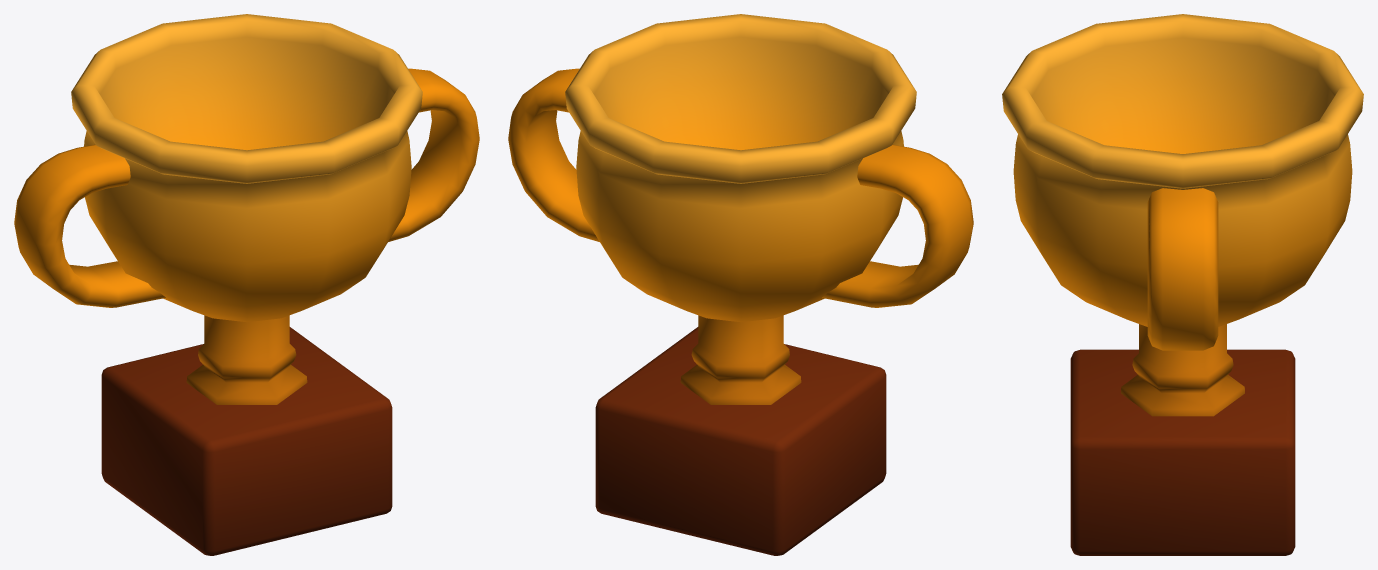
File: Collectible_Trophy_01.fbx
The picture shows the model from 3 angles, left to right: view 1: azimuth 30°, elevation 25°; view 2: azimuth 150°, elevation 25°; view 3: azimuth 270°, elevation 25°; orthographic projection. The views are drawn at different scales.
Parts seen in each view (by area): view 1: Collectible_Trophy_01; view 2: Collectible_Trophy_01; view 3: Collectible_Trophy_01.
Boxes of the visible parts, box(x1,y1,x2,y2) form: Collectible_Trophy_01: box(14, 14, 479, 555); Collectible_Trophy_01: box(508, 14, 973, 555); Collectible_Trophy_01: box(1002, 14, 1363, 555).
Bounding box in the file's own units: 82.5 × 73.46 × 56.74.
